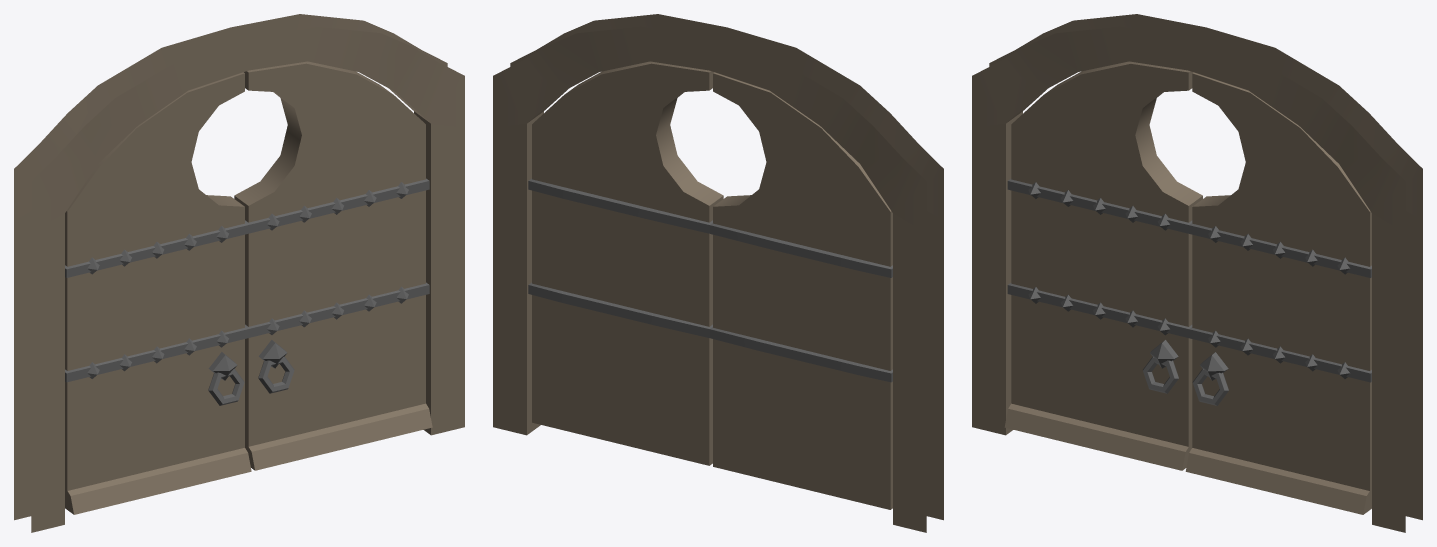
File: DoorFrame.fbx
3 views of the same model, side by side, from view 1: azimuth 30°, elevation 25°; view 2: azimuth 150°, elevation 25°; view 3: azimuth 330°, elevation 25° (orthographic).
Parts seen in each view (by area): view 1: DoorRight, DoorLeft, DoorFrame; view 2: DoorRight, DoorLeft, DoorFrame; view 3: DoorLeft, DoorRight, DoorFrame.
Part boxes in pixels (x1,y1,x2,y2): DoorRight: (234, 61, 432, 470); DoorLeft: (65, 72, 251, 514); DoorFrame: (14, 14, 464, 532); DoorRight: (528, 61, 723, 465); DoorLeft: (710, 72, 892, 509); DoorFrame: (493, 14, 943, 532); DoorLeft: (1004, 61, 1202, 470); DoorRight: (1185, 72, 1371, 514); DoorFrame: (972, 14, 1422, 532).
Bounding box in the file's own units: 588 × 570 × 59.05.
